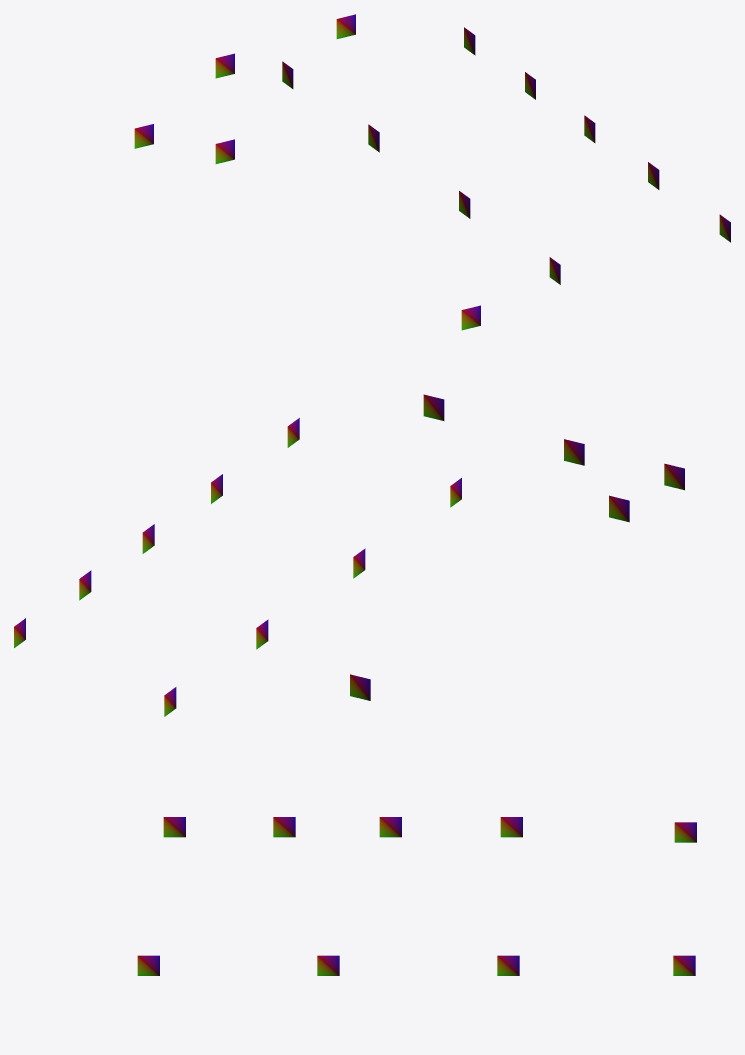
Rendered from pictures.glb.
3 renders of one model, top to bottom at view 1: azimuth 30°, elevation 25°; view 2: azimuth 150°, elevation 25°; view 3: azimuth 270°, elevation 25°, orthographic. The views are drawn at different scales.
Visible parts, largest first — view 1: pictures; view 2: pictures; view 3: pictures.
Boxes of the visible parts, x1,y1,x2,y2 form: pictures: (134,14,730,330); pictures: (14,394,684,716); pictures: (137,817,696,975).
Size of the model in its own units: 21.98 by 1.48 by 32.
